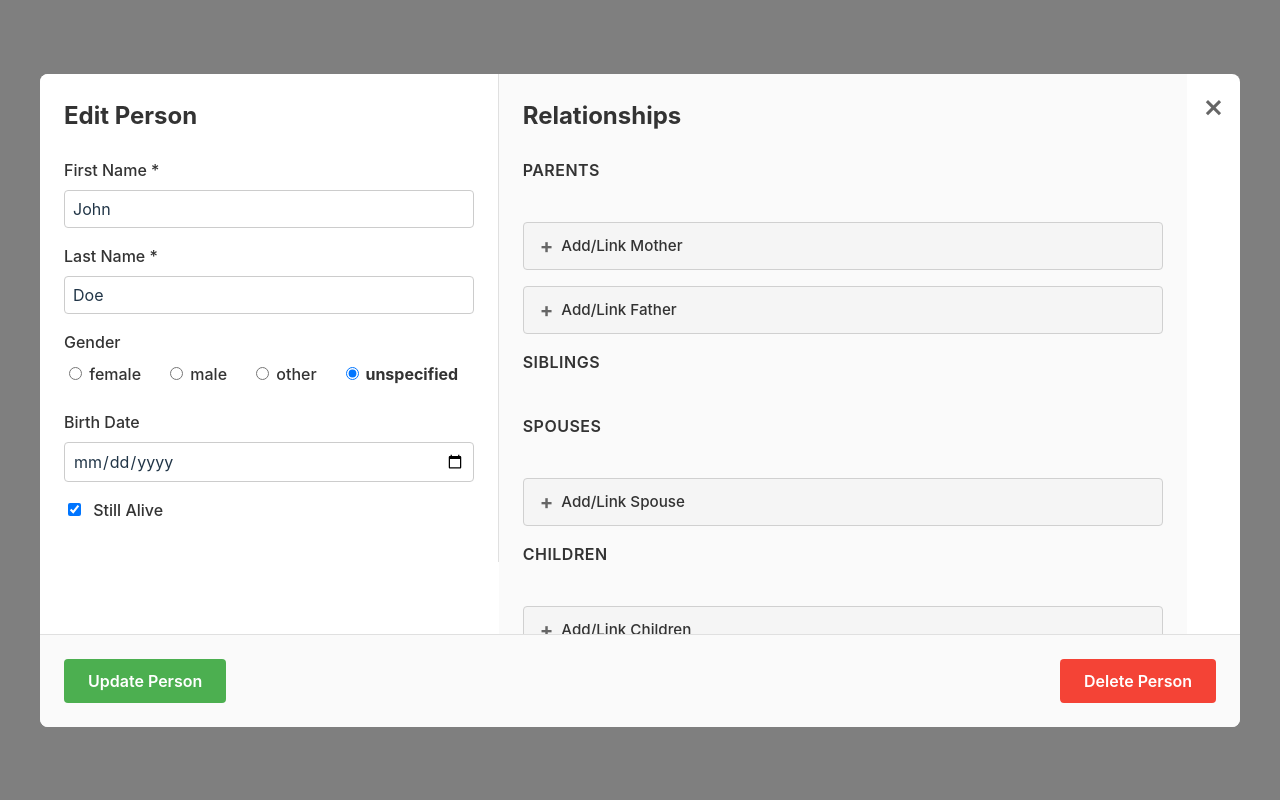
Test: PersonModal - Spouses Section with CollapsibleActionPanel (Issue #54) › AC3: Create New shows QuickAddSpouse › should show QuickAddSpouse when Create New Person is clicked
The image size is (1280, 800).
Click the button with class "trigger-button" showing "+ Add/Link Spouse". click: (623, 502)
box: [523,478,1163,526]
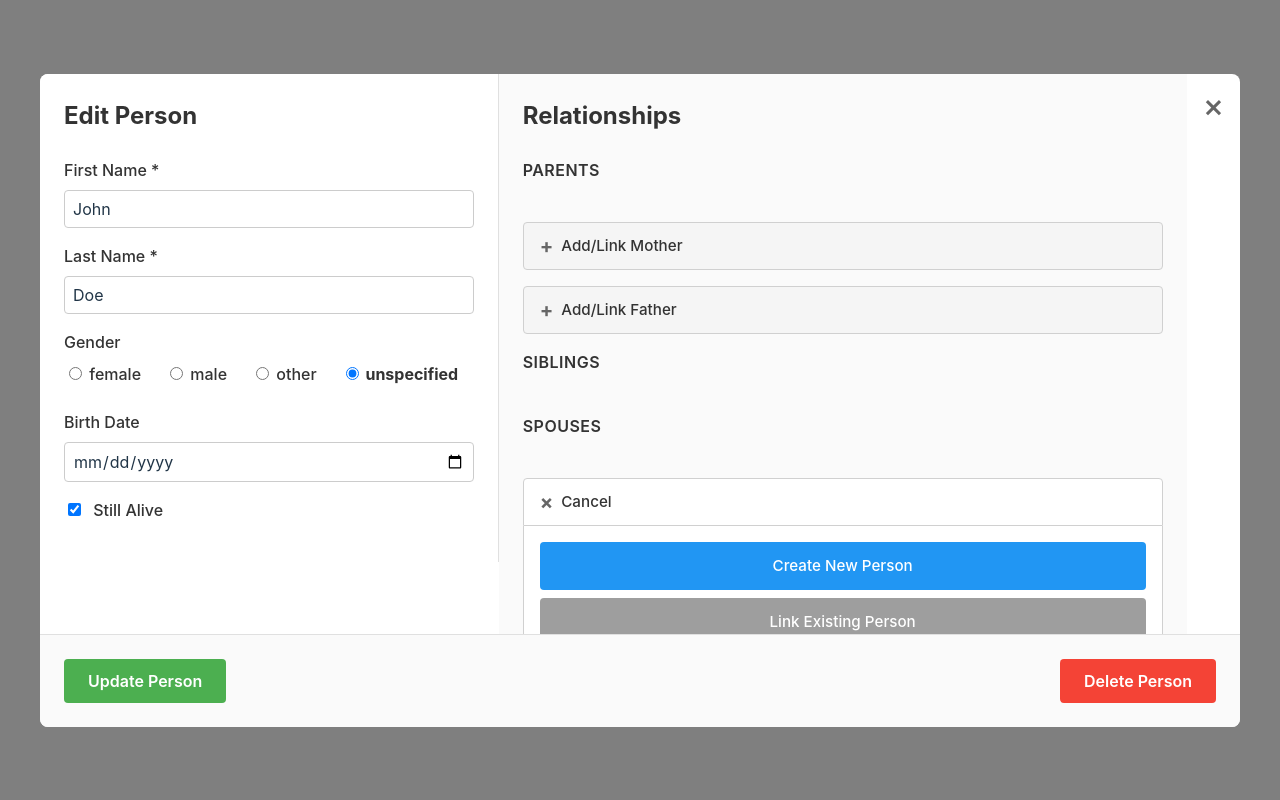
// WHEN user clicks Create New Person
Click the button "Create New Person". click: (843, 566)
box: [540,542,1146,590]
(page scrolled)
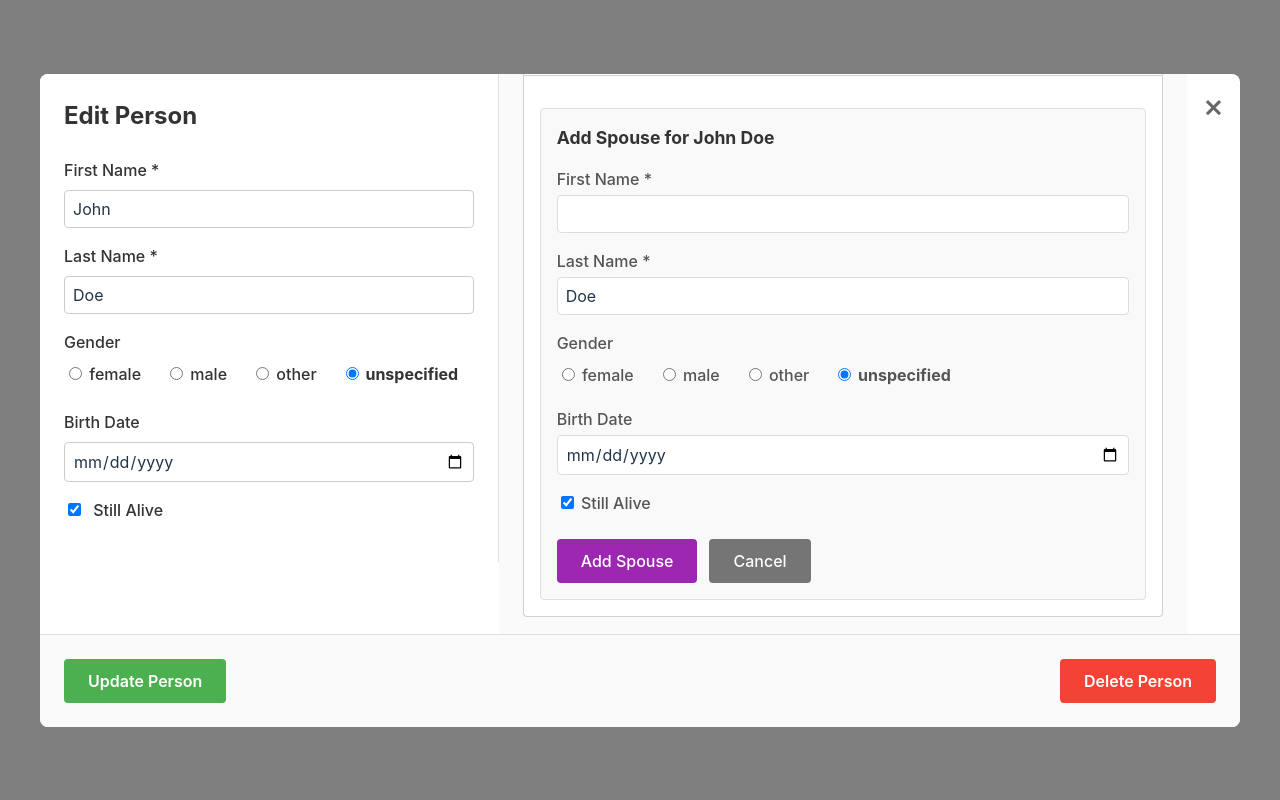
Result: the element that starts with "Add Spouse for" shows "John Doe" at [540,108,1146,600]
